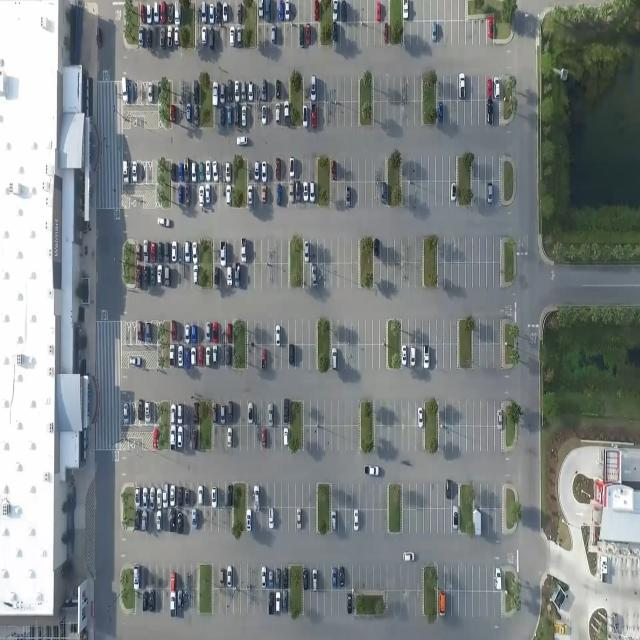car: (598, 555, 608, 583), (121, 75, 130, 103), (402, 550, 416, 564), (282, 100, 290, 124), (169, 425, 177, 449), (282, 398, 290, 422), (364, 464, 380, 476), (96, 26, 104, 49), (157, 217, 171, 230), (173, 0, 181, 22), (330, 346, 337, 371), (133, 565, 140, 590), (170, 239, 177, 263), (240, 238, 247, 262), (486, 100, 493, 124), (259, 376, 273, 388), (162, 483, 168, 510), (254, 484, 260, 511), (310, 101, 316, 128), (423, 345, 430, 368), (494, 568, 501, 591), (310, 76, 316, 102), (458, 72, 464, 98), (268, 402, 274, 428), (298, 23, 305, 45), (288, 156, 295, 178), (493, 78, 500, 100), (275, 183, 282, 205), (212, 160, 219, 182), (170, 592, 176, 617), (268, 592, 274, 617), (439, 592, 445, 617), (551, 626, 566, 636), (246, 507, 252, 532), (401, 0, 408, 21), (184, 183, 191, 204), (183, 240, 190, 261), (226, 565, 233, 586), (193, 80, 199, 104), (487, 78, 493, 102), (198, 156, 204, 180), (158, 239, 164, 263), (220, 240, 226, 264), (233, 262, 239, 286), (311, 264, 317, 288), (452, 505, 458, 529), (380, 182, 387, 202), (332, 0, 338, 23), (149, 263, 155, 286), (275, 592, 281, 615), (212, 82, 218, 105), (233, 78, 239, 101), (274, 157, 280, 180), (205, 158, 211, 181), (122, 158, 128, 181), (288, 343, 294, 366), (144, 400, 150, 423), (178, 426, 184, 449), (142, 486, 148, 509), (177, 511, 183, 534), (142, 590, 148, 613), (192, 428, 198, 451), (247, 79, 253, 101), (486, 183, 492, 205), (191, 508, 197, 530), (211, 486, 217, 508), (226, 80, 232, 102), (274, 103, 280, 125), (254, 159, 260, 181), (345, 185, 351, 207), (135, 264, 141, 286), (129, 355, 141, 366), (152, 427, 158, 449), (150, 487, 156, 509), (134, 508, 140, 530), (156, 509, 162, 531), (282, 590, 288, 612), (302, 568, 308, 590), (183, 155, 188, 181), (140, 3, 146, 24), (160, 2, 166, 23), (487, 20, 493, 41), (302, 180, 308, 201), (191, 241, 197, 262), (193, 402, 199, 423), (198, 484, 204, 505), (268, 508, 274, 529), (302, 106, 308, 127), (288, 180, 294, 201), (275, 324, 281, 345), (261, 348, 267, 369), (212, 321, 218, 342), (170, 402, 176, 423), (226, 426, 232, 447), (417, 408, 423, 429), (156, 488, 162, 509), (135, 486, 141, 507), (178, 589, 184, 610), (446, 478, 452, 499), (192, 104, 198, 125), (168, 3, 174, 23), (200, 0, 206, 20), (219, 404, 225, 424), (204, 346, 210, 366), (309, 182, 315, 202), (225, 162, 231, 182), (142, 266, 148, 286), (164, 266, 170, 286), (212, 265, 218, 285), (401, 345, 407, 365), (136, 320, 142, 340), (122, 403, 128, 423), (177, 404, 183, 424), (247, 402, 253, 422), (227, 401, 233, 421), (227, 484, 232, 508), (240, 79, 246, 99), (184, 324, 190, 344), (331, 509, 336, 532), (146, 5, 152, 24), (160, 28, 166, 47), (186, 102, 192, 121), (260, 105, 266, 124), (451, 182, 457, 201), (177, 183, 183, 202), (142, 239, 148, 258), (346, 594, 352, 613), (256, 0, 263, 16), (132, 160, 137, 182), (148, 81, 153, 103), (296, 180, 301, 202), (170, 484, 175, 506), (170, 509, 175, 531), (312, 569, 317, 591), (339, 566, 344, 588), (174, 27, 180, 45), (431, 24, 437, 42), (190, 348, 196, 366), (162, 241, 168, 259), (192, 264, 198, 282), (184, 488, 190, 506), (170, 572, 176, 590), (278, 0, 283, 21), (341, 0, 346, 21), (241, 105, 246, 126), (304, 241, 309, 262), (185, 347, 190, 368), (496, 410, 501, 431), (178, 486, 183, 507), (149, 590, 154, 611), (261, 78, 266, 99), (236, 136, 249, 144), (135, 242, 141, 259), (268, 570, 274, 587), (168, 102, 174, 119), (139, 26, 144, 46), (208, 25, 213, 45), (229, 25, 234, 45), (265, 0, 270, 20), (261, 428, 266, 448), (212, 344, 217, 364), (438, 102, 443, 122), (331, 161, 336, 181), (248, 184, 253, 204), (199, 185, 204, 205), (205, 183, 210, 203), (156, 263, 161, 283), (227, 322, 232, 342), (205, 321, 210, 341), (198, 346, 203, 366), (191, 324, 196, 344), (226, 184, 231, 204), (154, 3, 159, 22), (222, 0, 227, 19), (284, 0, 289, 19), (383, 25, 388, 44), (226, 103, 231, 122), (178, 162, 183, 181), (150, 241, 155, 260), (283, 427, 288, 446), (142, 509, 146, 532), (147, 29, 152, 47), (236, 26, 241, 44), (275, 79, 280, 97), (171, 162, 176, 180), (275, 569, 280, 587), (146, 320, 150, 342), (297, 508, 301, 530), (201, 25, 206, 42), (374, 238, 379, 255), (237, 1, 241, 22), (306, 22, 310, 43), (234, 102, 238, 123), (262, 161, 266, 182), (170, 343, 174, 364), (178, 345, 182, 366), (262, 566, 266, 587), (168, 26, 172, 46), (215, 0, 219, 20), (314, 0, 318, 20), (220, 82, 224, 102), (332, 568, 336, 588), (354, 510, 358, 530), (209, 2, 213, 21), (376, 3, 380, 22), (226, 266, 230, 284), (284, 568, 288, 586), (271, 24, 275, 41), (332, 22, 336, 39), (220, 569, 224, 586), (220, 105, 223, 124)
free_space: (274, 401, 283, 426), (190, 588, 198, 614), (409, 483, 417, 509), (372, 102, 380, 127), (414, 101, 422, 126), (302, 425, 310, 450), (344, 425, 352, 450), (452, 402, 460, 427), (472, 591, 480, 616), (213, 401, 221, 426), (310, 483, 318, 508), (480, 509, 488, 534), (184, 263, 192, 288), (478, 22, 486, 46), (316, 102, 324, 126), (336, 102, 344, 126), (400, 181, 408, 205), (492, 182, 500, 206), (302, 262, 310, 286), (436, 263, 444, 287), (478, 262, 486, 286), (480, 402, 488, 426), (399, 321, 407, 345), (414, 344, 422, 368), (352, 484, 360, 508), (156, 564, 164, 588), (190, 565, 198, 589), (486, 568, 494, 592), (465, 568, 473, 592), (149, 508, 157, 532), (480, 485, 488, 509), (246, 565, 254, 589), (260, 262, 268, 286), (304, 0, 312, 23), (330, 182, 338, 205), (414, 159, 422, 182), (434, 181, 442, 204), (478, 182, 486, 205), (414, 264, 422, 287), (414, 239, 422, 262), (352, 427, 360, 450), (442, 345, 450, 368), (478, 323, 486, 346), (274, 507, 282, 530), (414, 568, 422, 591), (450, 591, 458, 614), (256, 23, 264, 46), (416, 485, 424, 508), (393, 102, 400, 128), (331, 484, 338, 510), (380, 483, 387, 509), (408, 591, 415, 617), (241, 564, 248, 590), (346, 0, 354, 22), (416, 0, 424, 22), (444, 22, 452, 44), (442, 80, 450, 102), (470, 80, 478, 102), (491, 102, 499, 124), (344, 160, 352, 182), (434, 160, 442, 182), (394, 426, 402, 448), (466, 403, 474, 425), (414, 322, 422, 344), (428, 322, 436, 344), (442, 322, 450, 344), (288, 484, 296, 506), (156, 590, 164, 612), (372, 568, 380, 590), (169, 320, 177, 342), (422, 486, 430, 508), (415, 509, 423, 531), (280, 264, 288, 286), (438, 426, 445, 451), (452, 426, 459, 451), (486, 344, 493, 369), (324, 590, 331, 615), (487, 591, 494, 616), (171, 182, 178, 207), (191, 483, 198, 508), (150, 564, 157, 589), (247, 483, 254, 508), (415, 591, 422, 616), (281, 78, 288, 102), (470, 102, 477, 126), (477, 102, 484, 126), (428, 159, 435, 183), (428, 181, 435, 205), (442, 182, 449, 206), (240, 263, 247, 287), (253, 263, 260, 287), (273, 263, 280, 287), (344, 240, 351, 264), (451, 264, 458, 288), (465, 262, 472, 286), (472, 262, 479, 286), (247, 425, 254, 449), (262, 402, 269, 426), (310, 426, 317, 450), (324, 402, 331, 426), (324, 425, 331, 449), (338, 424, 345, 448), (352, 402, 359, 426), (374, 401, 381, 425), (439, 402, 446, 426), (466, 426, 473, 450), (473, 424, 480, 448), (487, 402, 494, 426), (300, 344, 307, 368), (329, 321, 336, 345), (357, 345, 364, 369), (371, 345, 378, 369), (472, 345, 479, 369), (493, 344, 500, 368), (373, 485, 380, 509), (380, 510, 388, 531), (338, 509, 346, 530), (163, 588, 170, 612), (213, 564, 220, 588), (303, 590, 310, 614), (317, 566, 324, 590), (393, 568, 400, 592), (451, 568, 458, 592), (494, 592, 501, 616), (444, 592, 451, 616), (466, 592, 473, 616), (479, 591, 486, 615), (130, 116, 144, 128), (185, 80, 192, 104), (247, 102, 254, 126), (338, 159, 345, 183), (171, 263, 178, 287), (205, 507, 212, 531), (135, 588, 142, 612), (401, 485, 408, 509), (423, 508, 430, 532), (488, 485, 495, 509), (451, 22, 458, 46), (458, 22, 465, 46), (378, 345, 385, 369), (401, 510, 408, 534), (408, 509, 415, 533), (495, 508, 502, 532), (194, 23, 201, 46), (291, 0, 298, 23), (291, 22, 298, 45), (367, 0, 374, 23), (374, 23, 381, 46), (424, 23, 431, 46), (303, 78, 310, 101), (449, 102, 456, 125), (212, 182, 219, 205), (254, 182, 261, 205), (281, 182, 288, 205), (421, 159, 428, 182), (246, 263, 253, 286), (323, 240, 330, 263), (337, 263, 344, 286), (344, 263, 351, 286), (351, 263, 358, 286), (380, 263, 387, 286), (444, 263, 451, 286), (451, 240, 458, 263), (465, 240, 472, 263), (275, 425, 282, 448), (317, 402, 324, 425), (331, 402, 338, 425), (331, 426, 338, 449), (374, 426, 381, 449), (381, 426, 388, 449), (388, 401, 395, 424), (402, 402, 409, 425), (409, 426, 416, 449), (416, 426, 423, 449), (445, 404, 452, 427), (266, 321, 273, 344), (266, 344, 273, 367), (280, 321, 287, 344), (307, 322, 314, 345), (336, 322, 343, 345), (357, 322, 364, 345), (364, 322, 371, 345), (211, 507, 218, 530), (282, 507, 289, 530), (338, 486, 345, 509), (359, 486, 366, 509), (184, 565, 191, 588), (213, 589, 220, 612), (261, 590, 268, 613), (310, 590, 317, 613), (317, 590, 324, 613), (379, 568, 386, 591), (400, 568, 407, 591), (394, 591, 401, 614), (401, 591, 408, 614), (472, 568, 479, 591), (213, 102, 220, 125), (247, 589, 254, 612), (178, 264, 185, 287), (437, 509, 444, 532), (466, 20, 472, 46), (194, 0, 201, 22), (298, 0, 305, 22), (311, 22, 318, 44), (360, 23, 367, 45), (381, 0, 388, 22), (430, 0, 437, 22), (444, 0, 451, 22), (437, 0, 444, 22), (323, 79, 330, 101), (393, 80, 400, 102), (379, 102, 386, 124), (386, 102, 393, 124), (436, 80, 443, 102), (470, 102, 477, 124), (302, 159, 309, 181), (309, 159, 316, 181), (351, 160, 358, 182), (358, 160, 365, 182), (358, 182, 365, 204), (400, 160, 407, 182), (414, 181, 421, 203), (442, 159, 449, 181), (449, 160, 456, 182), (492, 160, 499, 182), (485, 160, 492, 182), (471, 160, 478, 182), (253, 240, 260, 262), (323, 263, 330, 285), (351, 242, 358, 264), (380, 242, 387, 264), (387, 241, 394, 263), (444, 240, 451, 262), (472, 240, 479, 262), (479, 241, 486, 263), (213, 426, 220, 448), (233, 402, 240, 424), (338, 404, 345, 426), (381, 402, 388, 424), (395, 402, 402, 424), (409, 402, 416, 424), (459, 403, 466, 425), (246, 344, 253, 366), (364, 345, 371, 367), (378, 322, 385, 344), (184, 507, 191, 529), (218, 508, 225, 530), (261, 484, 268, 506), (275, 485, 282, 507), (253, 508, 260, 530), (359, 509, 366, 531), (373, 509, 380, 531), (177, 566, 184, 588), (254, 590, 261, 612), (344, 568, 351, 590), (359, 568, 366, 590), (130, 197, 144, 208), (495, 485, 502, 507), (488, 509, 495, 531), (212, 240, 219, 262), (354, 22, 360, 47), (352, 181, 358, 206), (304, 402, 310, 427), (366, 181, 372, 206), (156, 343, 162, 368), (277, 23, 284, 44), (423, 0, 430, 21), (437, 23, 444, 44), (450, 0, 457, 21), (477, 80, 484, 101), (478, 161, 485, 182), (493, 242, 500, 263), (176, 321, 183, 342), (345, 509, 352, 530), (233, 566, 240, 587), (153, 27, 160, 48), (284, 22, 290, 46), (271, 0, 277, 24), (347, 22, 353, 46), (417, 22, 423, 46), (472, 22, 478, 46), (324, 102, 330, 126), (351, 102, 357, 126), (407, 102, 413, 126), (464, 102, 470, 126), (282, 159, 288, 183), (338, 182, 344, 206), (266, 262, 272, 286), (317, 240, 323, 264), (373, 263, 379, 287), (493, 262, 499, 286), (269, 426, 275, 450), (311, 402, 317, 426), (460, 427, 466, 451), (474, 402, 480, 426), (225, 343, 231, 367), (253, 343, 259, 367), (337, 344, 343, 368), (344, 321, 350, 345), (351, 321, 357, 345), (371, 321, 377, 345), (408, 344, 414, 368), (436, 322, 442, 346), (450, 345, 456, 369), (436, 344, 442, 368), (486, 322, 492, 346), (289, 507, 295, 531), (346, 485, 352, 509), (143, 564, 149, 588), (164, 564, 170, 588), (234, 590, 240, 614), (366, 567, 372, 591), (408, 568, 414, 592), (438, 566, 444, 590), (459, 568, 465, 592), (261, 239, 267, 263), (431, 509, 437, 533), (130, 320, 136, 344), (178, 240, 184, 264), (241, 590, 247, 614), (254, 79, 261, 99), (330, 80, 337, 100), (295, 160, 302, 180), (394, 242, 401, 262), (225, 508, 232, 528), (220, 590, 227, 610), (163, 510, 170, 530), (340, 22, 346, 45), (360, 0, 366, 23), (403, 22, 409, 45), (344, 102, 350, 125), (457, 103, 463, 126), (219, 183, 225, 206), (261, 182, 267, 205), (268, 182, 274, 205), (422, 181, 428, 204), (226, 239, 232, 262), (246, 239, 252, 262), (267, 239, 273, 262), (310, 240, 316, 263), (331, 240, 337, 263), (387, 263, 393, 286), (458, 263, 464, 286), (220, 425, 226, 448), (234, 425, 240, 448), (241, 401, 247, 424), (241, 426, 247, 449), (318, 426, 324, 449), (345, 402, 351, 425), (402, 426, 408, 449), (488, 426, 494, 449), (481, 426, 487, 449), (495, 427, 501, 450), (253, 321, 259, 344), (260, 321, 266, 344), (294, 321, 300, 344), (294, 344, 300, 367), (301, 321, 307, 344), (308, 344, 314, 367), (351, 345, 357, 368), (429, 345, 435, 368), (472, 322, 478, 345), (480, 345, 486, 368), (268, 484, 274, 507), (296, 485, 302, 508), (261, 507, 267, 530), (310, 508, 316, 531), (366, 486, 372, 509), (366, 509, 372, 532), (332, 591, 338, 614), (352, 567, 358, 590), (388, 591, 394, 614), (445, 568, 451, 591), (480, 568, 486, 591), (156, 160, 162, 183), (388, 566, 394, 589), (438, 485, 444, 508), (474, 485, 480, 508), (445, 508, 451, 531), (443, 102, 449, 125), (215, 24, 221, 46), (360, 0, 366, 22), (410, 22, 416, 44), (458, 0, 464, 22), (178, 102, 184, 124), (268, 80, 274, 102), (268, 102, 274, 124), (317, 80, 323, 102), (344, 80, 350, 102), (351, 80, 357, 102), (380, 80, 386, 102), (387, 80, 393, 102), (373, 80, 379, 102), (414, 79, 420, 101), (450, 80, 456, 102), (464, 80, 470, 102), (248, 160, 254, 182), (267, 160, 273, 182), (366, 159, 372, 181), (408, 160, 414, 182), (408, 182, 414, 204), (472, 183, 478, 205), (233, 239, 239, 261), (274, 241, 280, 263), (280, 241, 286, 263), (317, 263, 323, 285), (331, 264, 337, 286), (338, 240, 344, 262), (394, 264, 400, 286), (437, 241, 443, 263), (486, 263, 492, 285), (486, 241, 492, 263), (129, 402, 135, 424), (388, 426, 394, 448), (446, 427, 452, 449), (197, 320, 203, 342), (246, 321, 252, 343), (273, 344, 279, 366), (280, 344, 286, 366), (287, 321, 293, 343), (344, 346, 350, 368), (408, 322, 414, 344), (422, 322, 428, 344), (198, 508, 204, 530), (219, 484, 225, 506), (282, 484, 288, 506), (303, 508, 309, 530), (227, 590, 233, 612), (325, 568, 331, 590), (338, 591, 344, 613), (458, 592, 464, 614), (191, 182, 197, 204), (430, 486, 436, 508), (264, 23, 270, 44), (353, 0, 359, 21), (368, 22, 374, 43), (409, 0, 415, 21), (179, 80, 185, 101), (407, 81, 413, 102), (191, 160, 197, 181), (219, 263, 225, 284), (458, 241, 464, 262), (450, 322, 456, 343), (493, 323, 499, 344), (205, 485, 211, 506), (303, 485, 309, 506), (126, 81, 132, 102), (331, 102, 336, 126), (337, 81, 343, 101), (146, 162, 152, 182), (139, 402, 144, 426), (452, 487, 458, 507), (125, 320, 130, 344), (222, 25, 228, 45), (255, 567, 260, 590), (141, 80, 146, 102), (132, 80, 137, 101), (155, 403, 160, 424), (229, 0, 234, 20), (141, 162, 146, 181)
